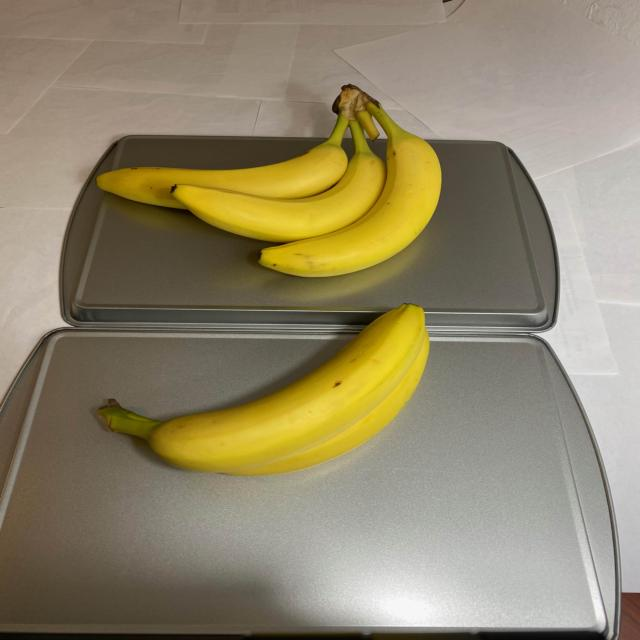banana: (86, 82, 448, 280), (81, 298, 442, 478)
